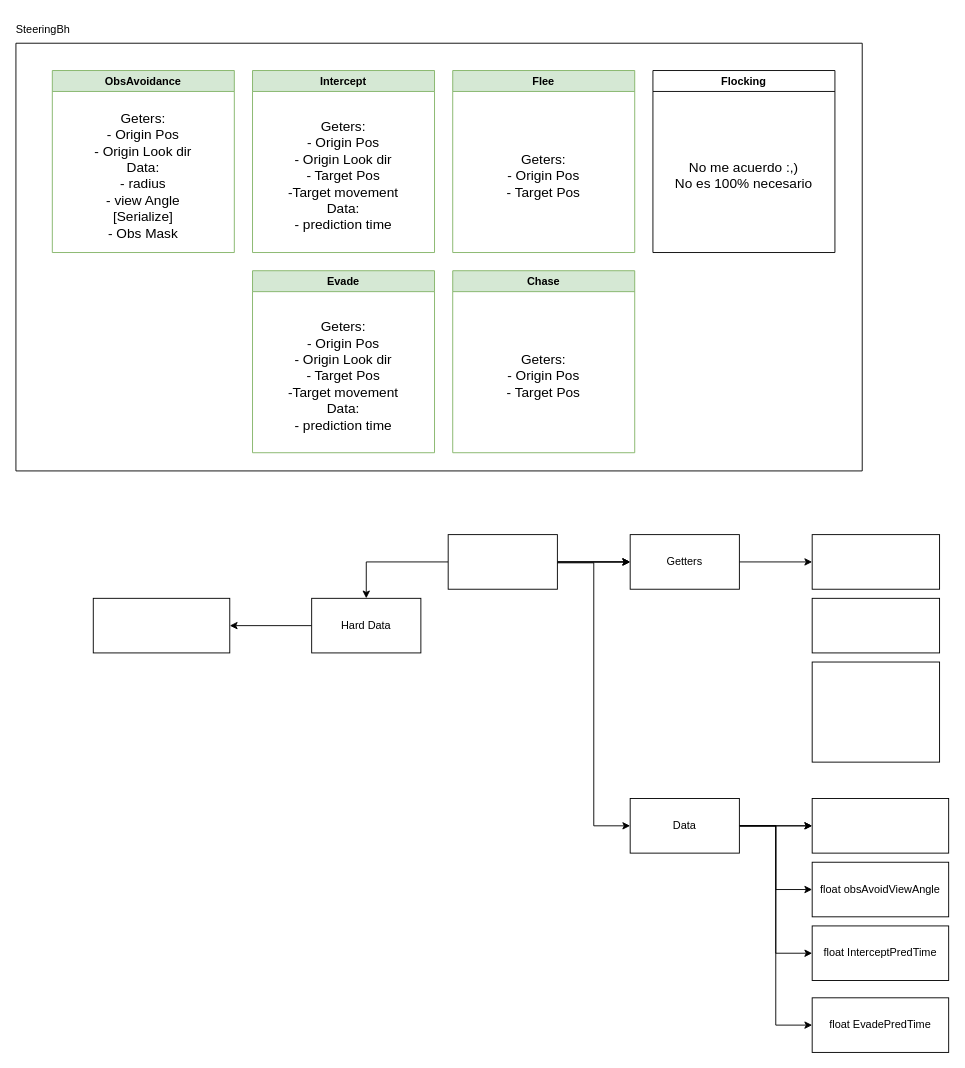
The diagram is 965 pixels wide and 1068 high, and some of its shapes have lost their labels. The centre of each missing label's shape, as x and y in pixels:
"Base Class" goes at (x=502, y=561).
"Int obsAvoidRadius" goes at (x=880, y=825).
"Layer ObsLayer" goes at (x=161, y=625).
"Vector 2 GetCurrPos()" goes at (x=875, y=561).
"Vector 2 GetMovementDir()" goes at (x=875, y=625).
"Vector 2 GetTargetMovement() // seria currDir * speed" goes at (x=875, y=711).
